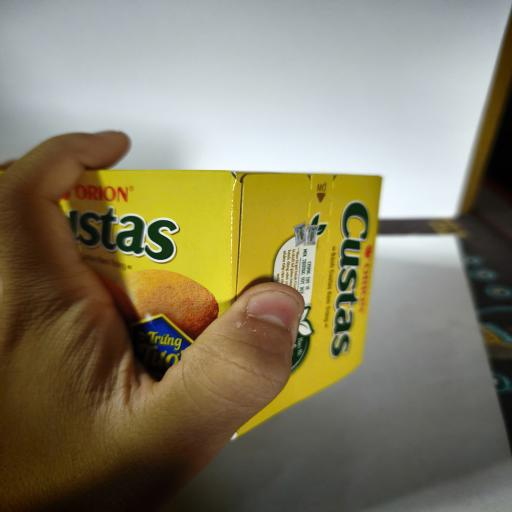custas: (59, 169, 383, 439)
